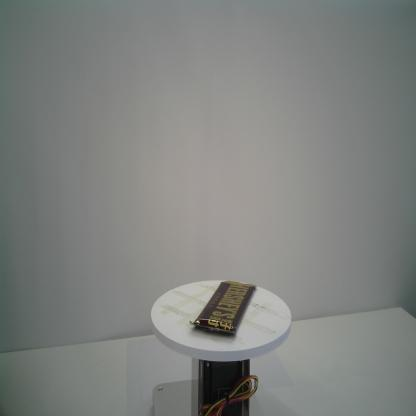Chocolate: (188, 280, 258, 335)
